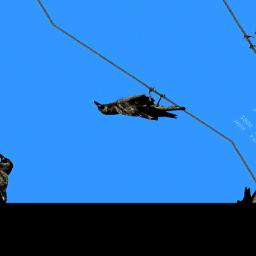Crow: (88, 69, 190, 145)
